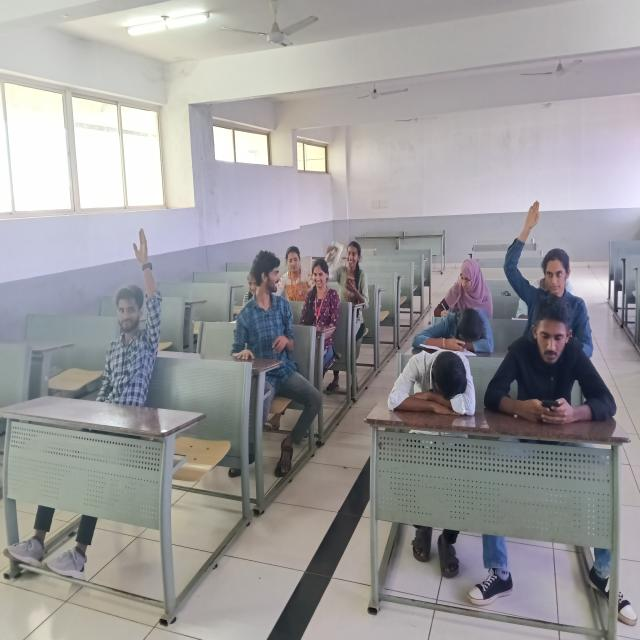Hand Rising: (94, 221, 183, 391), (498, 193, 601, 317)
Sleeping: (382, 340, 493, 430), (408, 306, 502, 356)
Using Phone: (493, 306, 628, 426)
Writing: (416, 238, 507, 316)
